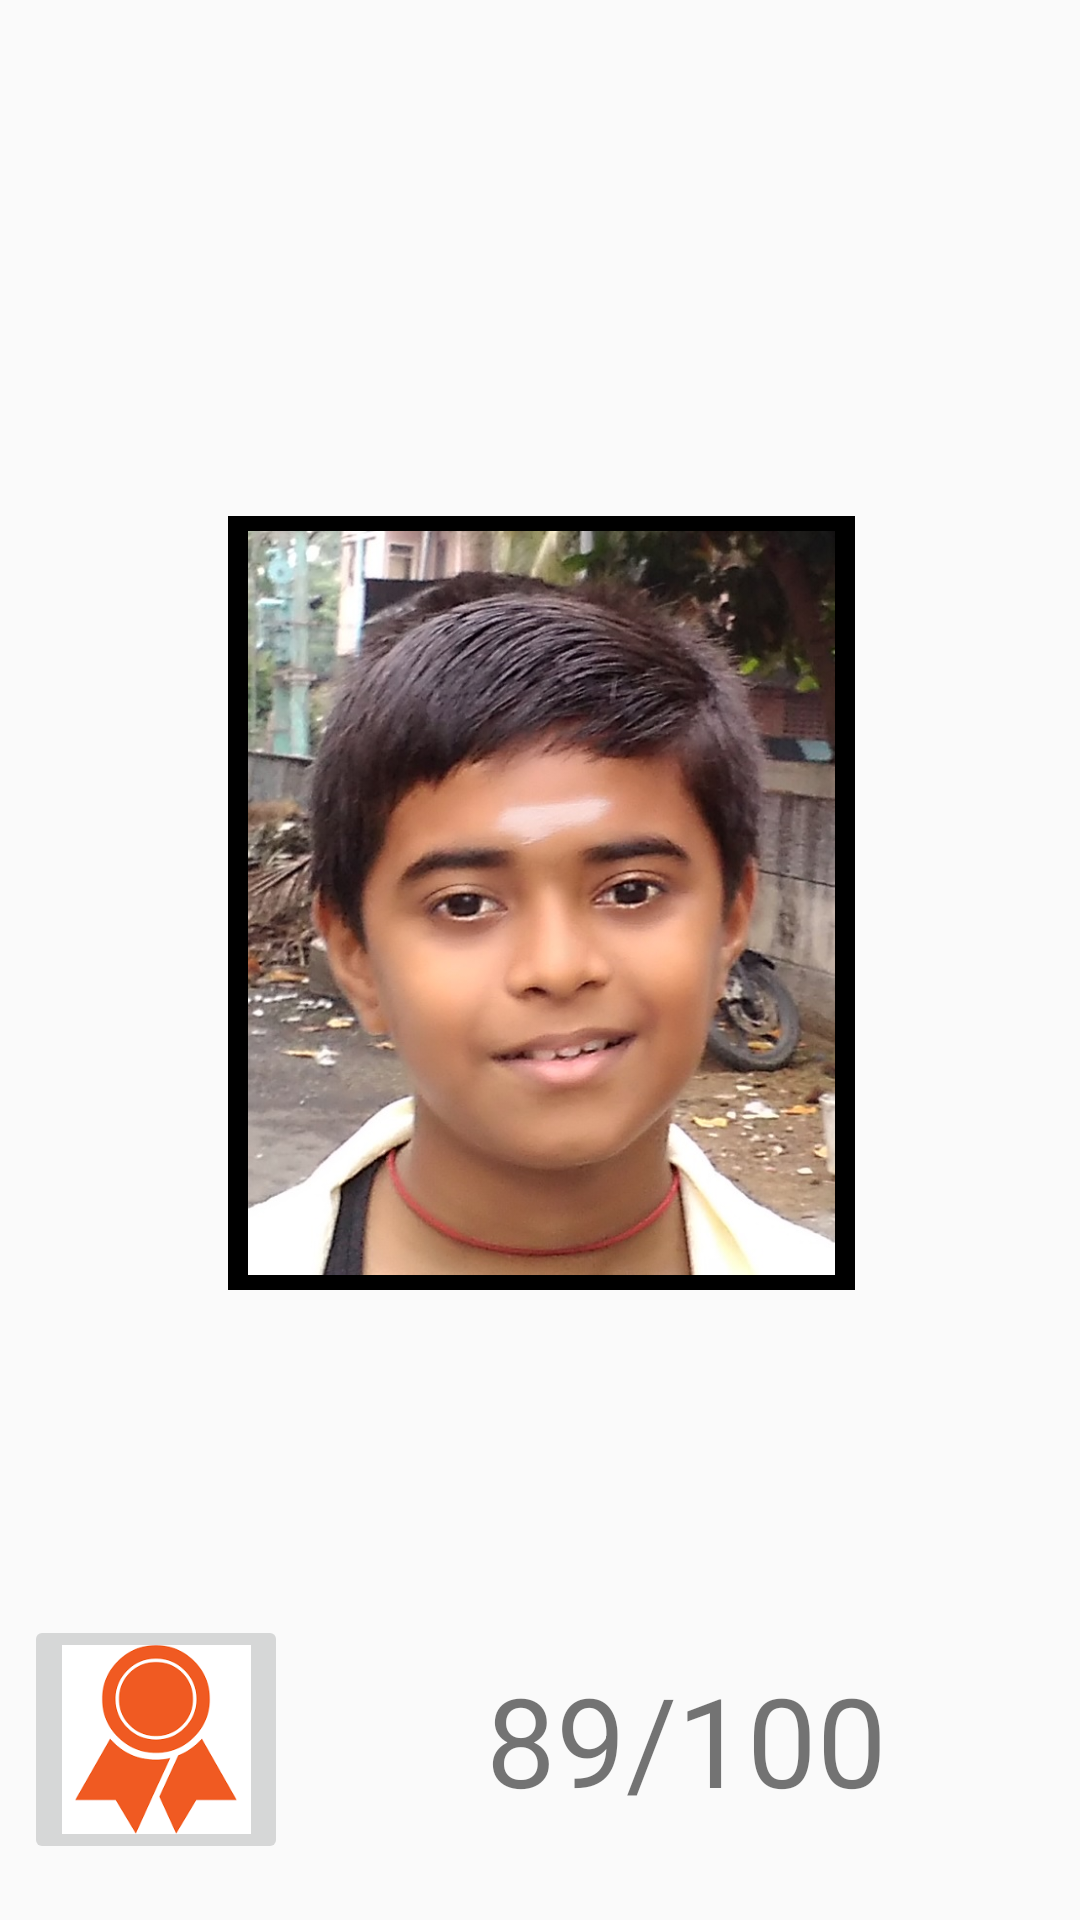

Screen size 1080w x 1920h. Icon name, then its center in pixels as point (x, y):
reward: point (156, 1739)
